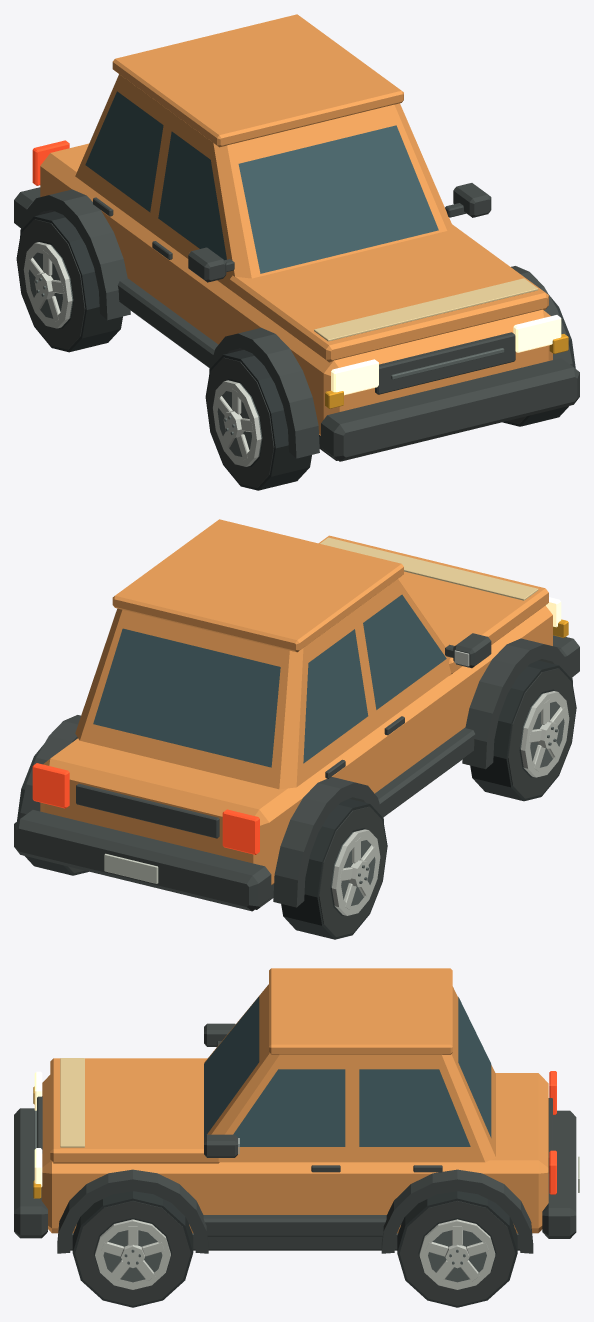
File: comet-mk2.gltf
The picture shows the model from 3 angles, top to bottom: view 1: azimuth 30°, elevation 25°; view 2: azimuth 150°, elevation 25°; view 3: azimuth 270°, elevation 25°; orthographic projection. The views are drawn at different scales.
Visible parts, largest first — view 1: Крыша, Капот, Лобовое стекло — наклонная плоскость, Основной кузов, Стойки и рамки окон, Передний бампер, Расширитель арки (×3), Шина (×3), Боковины (×2), Левое заднее стекло, Левое переднее стекло, Решетка радиатора (+8 smaller); view 2: Основной кузов, Крыша, Стойки и рамки окон, Заднее стекло — наклонная плоскость, Задний бампер, Расширитель арки (×3), Шина (×3), Капот, Боковины (×2), Левое заднее стекло, Левое переднее стекло, Задняя панель (+8 smaller); view 3: Основной кузов, Крыша, Капот, Стойки и рамки окон, Боковины (×2), Расширитель арки (×2), Правое заднее стекло, Правое переднее стекло, Шина (×2), Лобовое стекло — наклонная плоскость, Накладка порога справа, Обод (×2) (+7 smaller).
Boxes of the visible parts, left/top/right/bottom form: Крыша: left=112, top=14, right=403, bottom=147; Капот: left=229, top=224, right=548, bottom=362; Лобовое стекло — наклонная плоскость: left=238, top=125, right=438, bottom=273; Основной кузов: left=40, top=143, right=552, bottom=435; Стойки и рамки окон: left=75, top=74, right=451, bottom=288; Передний бампер: left=321, top=358, right=579, bottom=461; Расширитель арки (×3): left=20, top=189, right=572, bottom=458; Шина (×3): left=16, top=211, right=575, bottom=490; Боковины (×2): left=17, top=219, right=274, bottom=487; Левое заднее стекло: left=85, top=91, right=163, bottom=212; Левое переднее стекло: left=158, top=131, right=226, bottom=260; Решетка радиатора: left=375, top=332, right=515, bottom=394; Основной кузов: left=40, top=605, right=552, bottom=884; Крыша: left=112, top=519, right=403, bottom=652; Стойки и рамки окон: left=75, top=579, right=451, bottom=789; Заднее стекло — наклонная плоскость: left=93, top=628, right=280, bottom=767; Задний бампер: left=14, top=810, right=271, bottom=911; Расширитель арки (×3): left=20, top=638, right=572, bottom=907; Шина (×3): left=17, top=660, right=576, bottom=939; Капот: left=318, top=535, right=548, bottom=674; Боковины (×2): left=319, top=668, right=575, bottom=936; Левое заднее стекло: left=303, top=629, right=368, bottom=763; Левое переднее стекло: left=363, top=594, right=446, bottom=709; Задняя панель: left=76, top=783, right=219, bottom=838; Основной кузов: left=41, top=1073, right=548, bottom=1233; Крыша: left=269, top=968, right=452, bottom=1054; Капот: left=50, top=1058, right=219, bottom=1163; Стойки и рамки окон: left=204, top=984, right=495, bottom=1162; Боковины (×2): left=75, top=1201, right=515, bottom=1305; Расширитель арки (×2): left=57, top=1169, right=533, bottom=1253; Правое заднее стекло: left=359, top=1069, right=470, bottom=1146; Правое переднее стекло: left=233, top=1069, right=345, bottom=1146; Шина (×2): left=72, top=1191, right=517, bottom=1307; Лобовое стекло — наклонная плоскость: left=204, top=996, right=259, bottom=1137; Накладка порога справа: left=203, top=1215, right=386, bottom=1236; Обод (×2): left=95, top=1219, right=495, bottom=1289.
Bounding box in the file's own units: 2.08 × 1.7 × 3.66.
